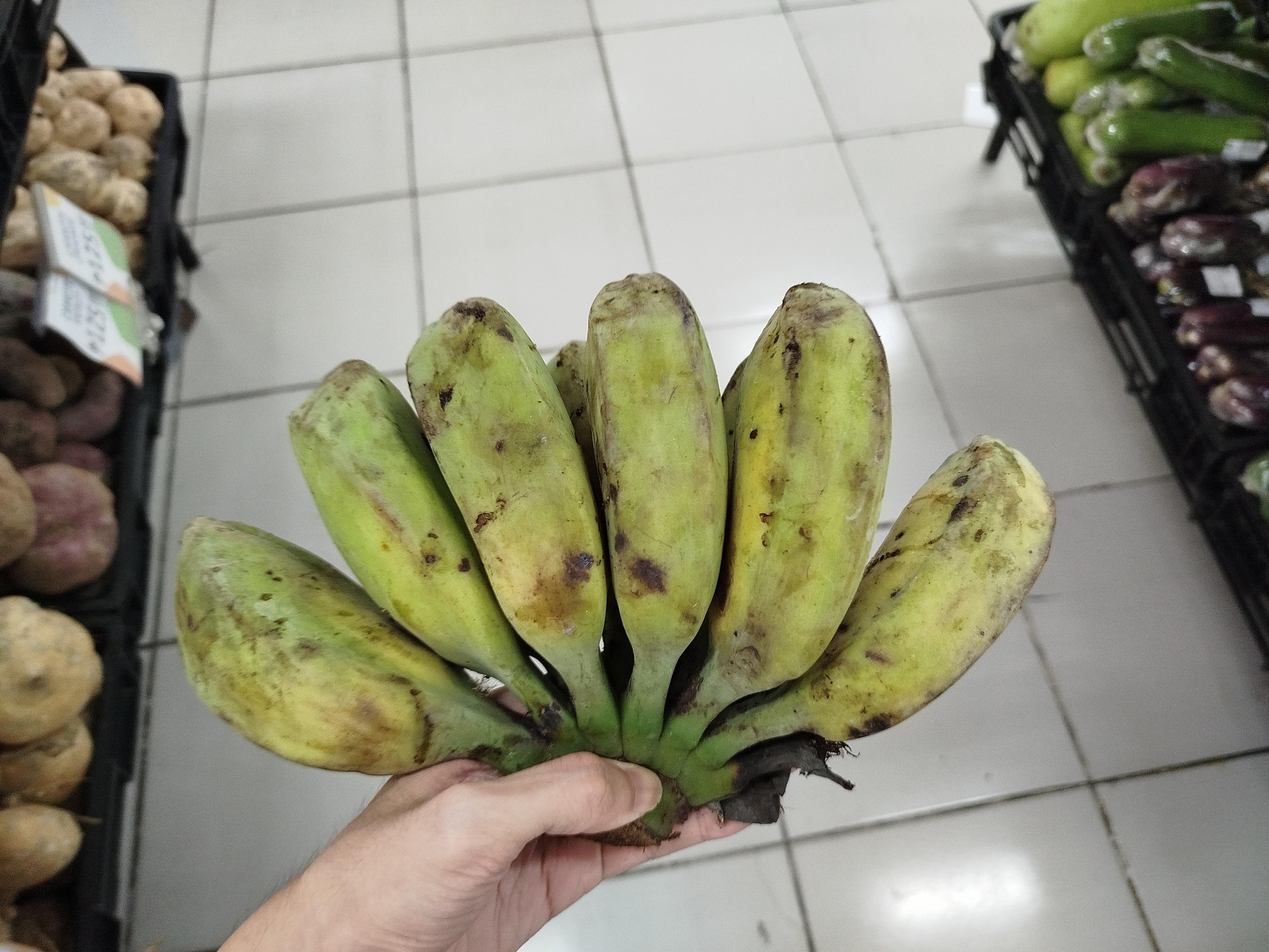underripe: (176, 274, 1054, 774)
